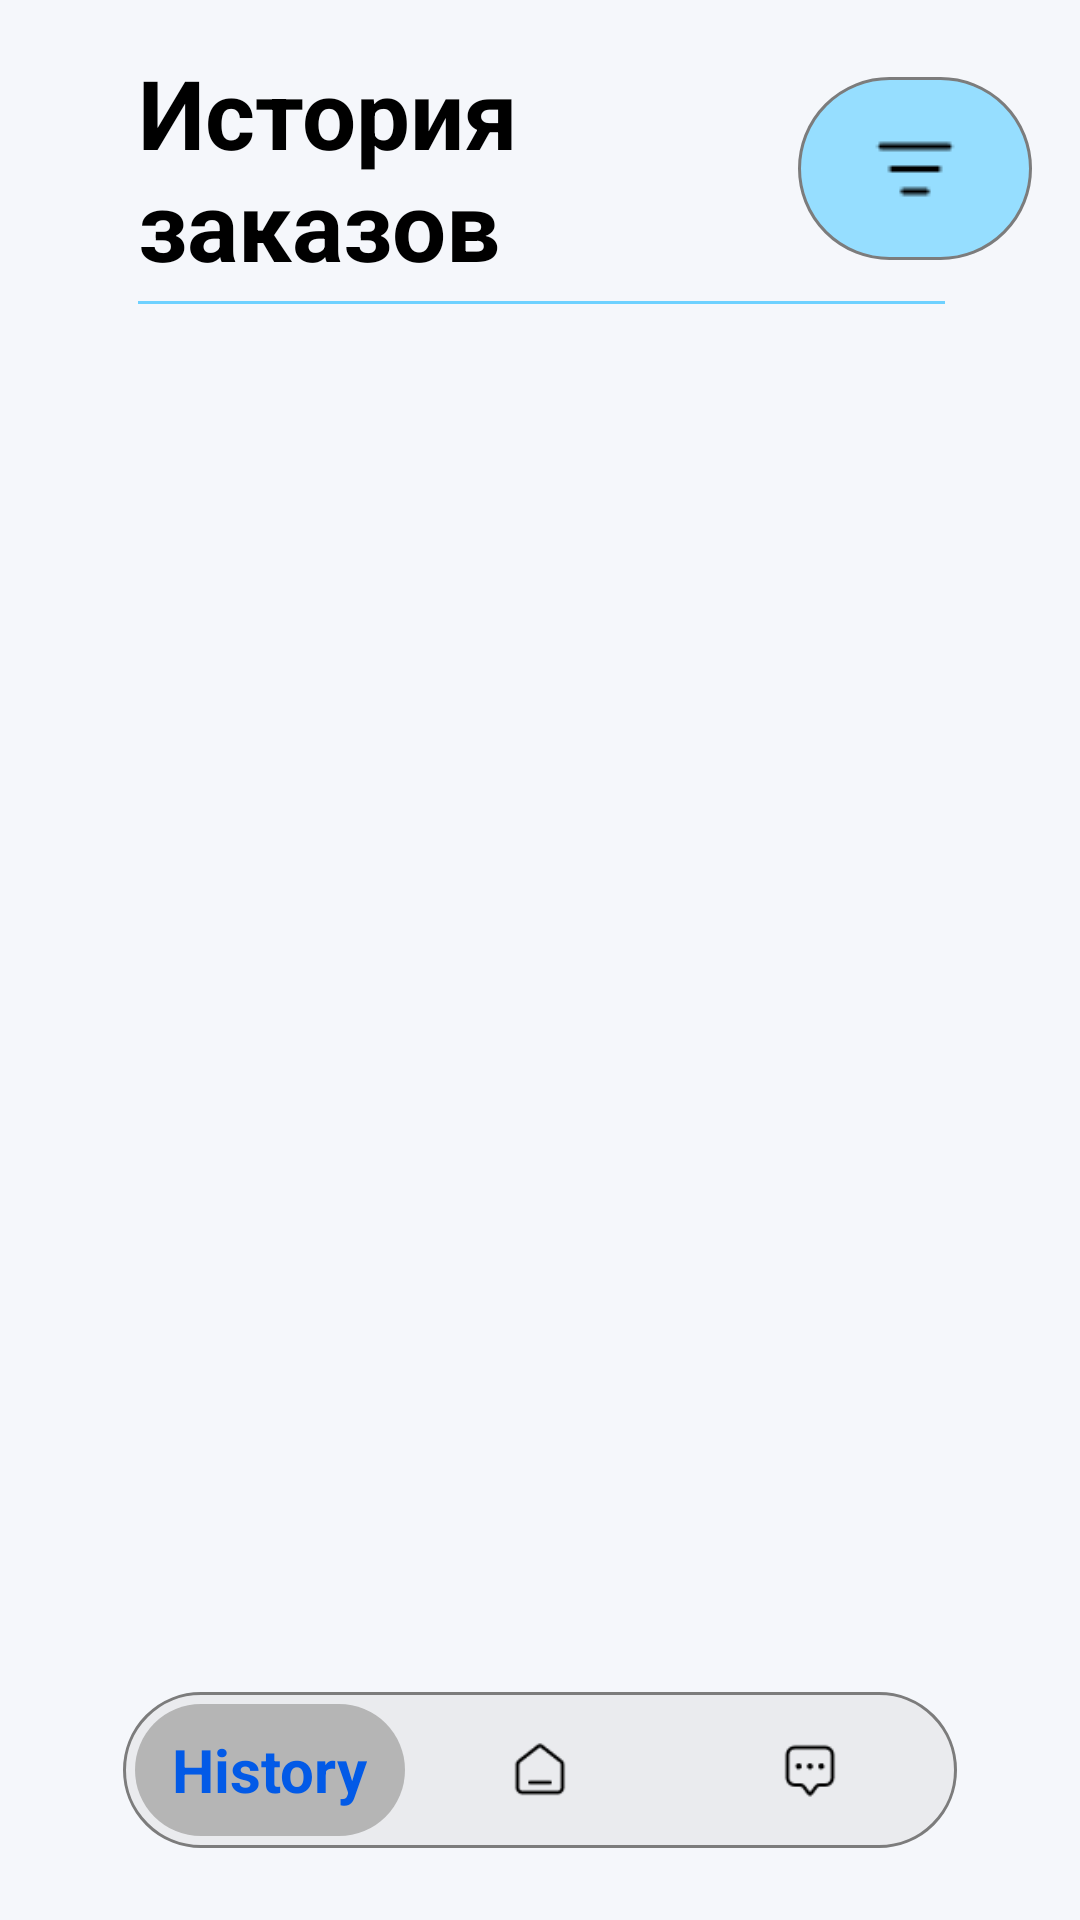

Named icons in this screenshot (1080px x 1920px) and their bounding boxes, (x1, y1, x2, y2):
feedback: (785, 1745, 835, 1797)
home: (515, 1743, 565, 1795)
Фильтр: (798, 77, 1032, 260)
